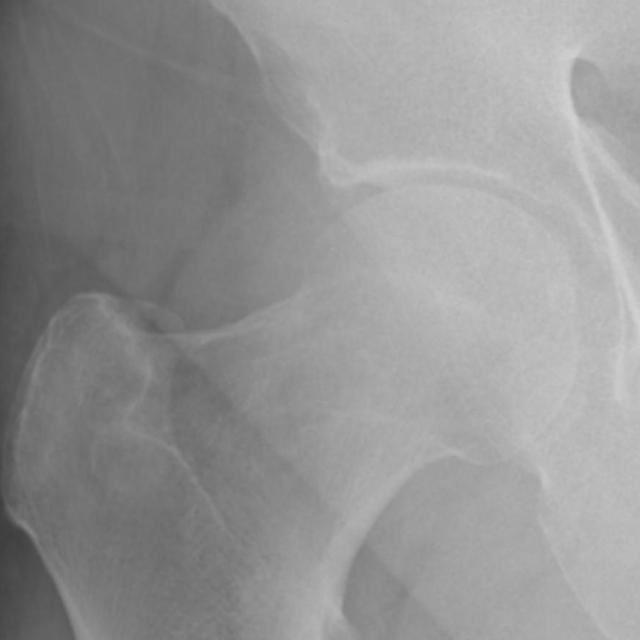Fitted_femural_head: (295, 185, 432, 295)
